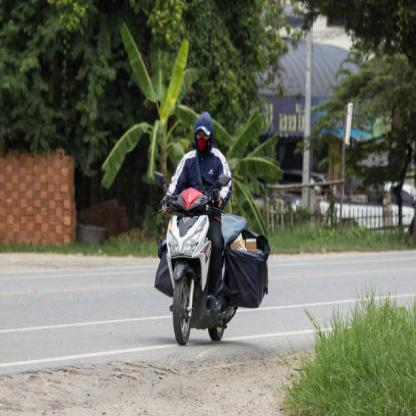Motorcycle: (154, 173, 249, 349)
